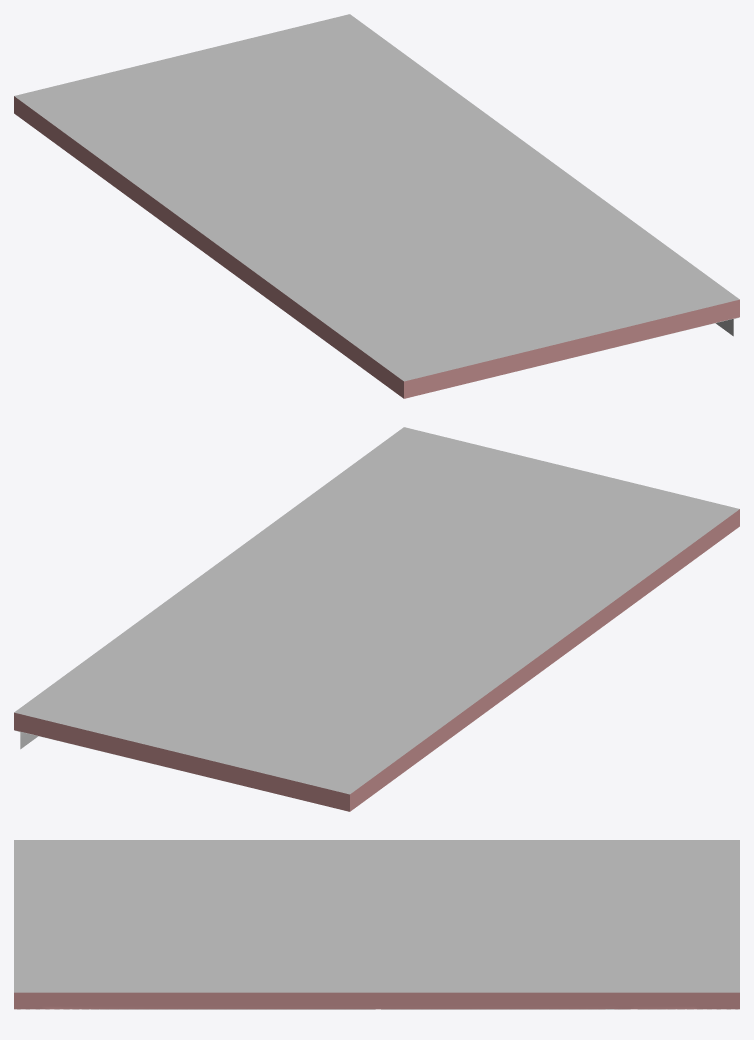
Rendered from 21a96bfe-1d2f-4913-a727-8c72a07cf272-003cfd08.glb.
3 renders of one model, top to bottom at view 1: azimuth 30°, elevation 25°; view 2: azimuth 150°, elevation 25°; view 3: azimuth 270°, elevation 25°, orthographic. The views are drawn at different scales.
Parts seen in each view (by area): view 1: sopnet4; view 2: sopnet4; view 3: sopnet4.
Boxes of the visible parts, x1=… form: sopnet4: x1=14, y1=14, x2=739, y2=398; sopnet4: x1=14, y1=427, x2=739, y2=811; sopnet4: x1=14, y1=840, x2=739, y2=1009.
Size of the model in its own units: 3.66 by 0.37 by 7.36.
